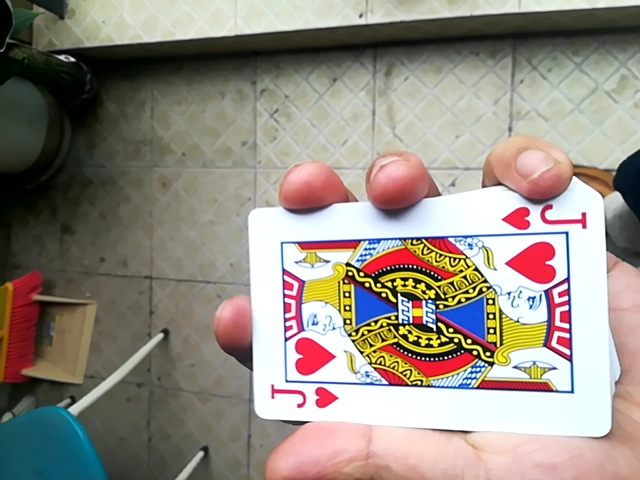hx j: (248, 183, 615, 439)
